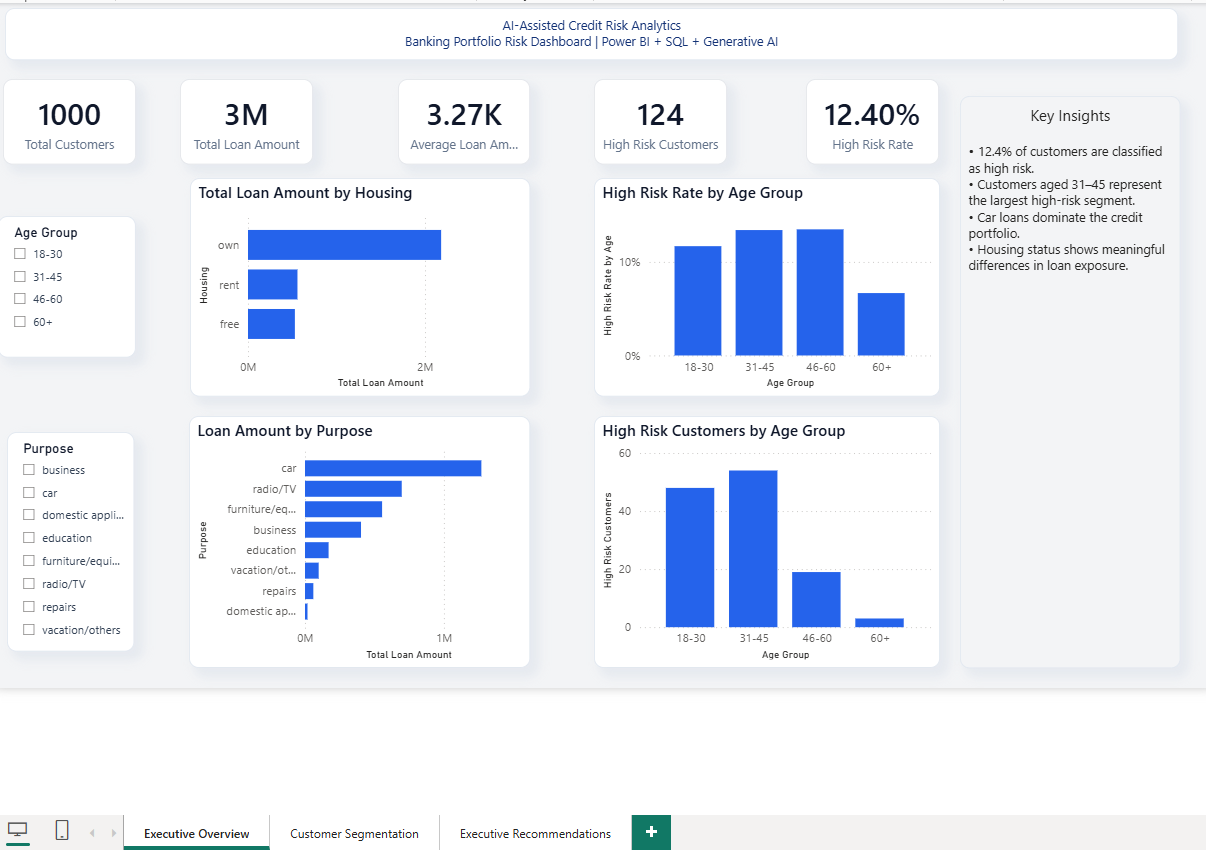

What the dashboard file says about the page in this screenshot:
{"tool":"powerbi","page":{"name":"Executive Overview","canvas":[1280,720],"ordinal":0},"visuals":[{"type":"card","fields":{"Values":["german_credit_data.Total Customers"]},"box":[7.1,79.6,140.1,90],"z":0},{"type":"card","fields":{"Values":["german_credit_data.Total Loan Amount"]},"box":[193.3,79.6,140.1,90],"z":1000},{"type":"card","fields":{"Values":["german_credit_data.High Risk Customers"]},"box":[628.7,79.6,140.1,90],"z":2000},{"type":"card","fields":{"Values":["german_credit_data.High Risk Rate"]},"box":[852.1,79.6,140.1,90],"z":3000},{"type":"card","fields":{"Values":["german_credit_data.Average Loan Amount"]},"box":[423,79.6,139.2,90],"z":4000},{"type":"clusteredBarChart","title":"Loan Amount by Purpose","fields":{"Y":["german_credit_data.Total Loan Amount"],"Category":["german_credit_data.Purpose"]},"box":[203.1,434.5,359.1,265.1],"z":5000},{"type":"clusteredColumnChart","fields":{"Category":["german_credit_data.Age Group"],"Y":["german_credit_data.High Risk Customers"]},"box":[628.7,434.5,363.5,265.1],"z":6000},{"type":"clusteredColumnChart","title":"High Risk Rate by Age Group","fields":{"Category":["german_credit_data.Age Group"],"Y":["german_credit_data.High Risk Rate by Age"]},"box":[628.7,183.5,363.5,229.7],"z":7000},{"type":"slicer","fields":{"Values":["german_credit_data.Age Group"]},"box":[1.8,223.7,145.4,149],"z":8000},{"type":"slicer","fields":{"Values":["german_credit_data.Purpose"]},"box":[11.5,451.3,133.9,230.5],"z":9000},{"type":"clusteredBarChart","fields":{"Y":["german_credit_data.Total Loan Amount"],"Category":["german_credit_data.Housing"]},"box":[203.9,183.5,358.2,229.7],"z":10000},{"type":"textbox","box":[9.8,5.3,1234.3,55],"z":11000},{"type":"textbox","box":[1013.5,97.5,232.3,602.1],"z":12000}]}

Visuals, with their boxes on the page's 1280x720 design canvas (x1, y1, x2, y2). These are canvas units, not pixel positions in the 1206x850 screenshot, which may show the page scaled, cropped or inside an application window:
card - german_credit_data.Total Customers: 7/80/147/170
card - german_credit_data.Total Loan Amount: 193/80/333/170
card - german_credit_data.High Risk Customers: 629/80/769/170
card - german_credit_data.High Risk Rate: 852/80/992/170
card - german_credit_data.Average Loan Amount: 423/80/562/170
"Loan Amount by Purpose" clusteredBarChart: 203/434/562/700
clusteredColumnChart - german_credit_data.Age Group x german_credit_data.High Risk Customers: 629/434/992/700
"High Risk Rate by Age Group" clusteredColumnChart: 629/184/992/413
slicer - german_credit_data.Age Group: 2/224/147/373
slicer - german_credit_data.Purpose: 12/451/145/682
clusteredBarChart - german_credit_data.Total Loan Amount x german_credit_data.Housing: 204/184/562/413
textbox: 10/5/1244/60
textbox: 1014/98/1246/700
